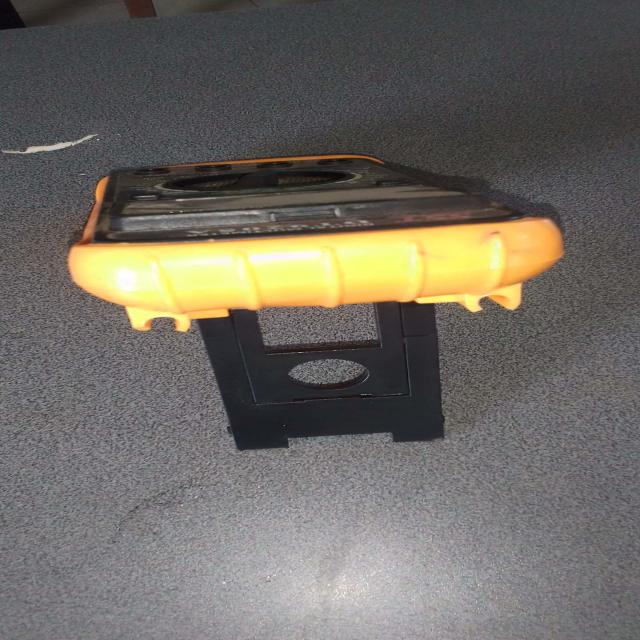Digital Multimeter: (25, 149, 584, 348)
